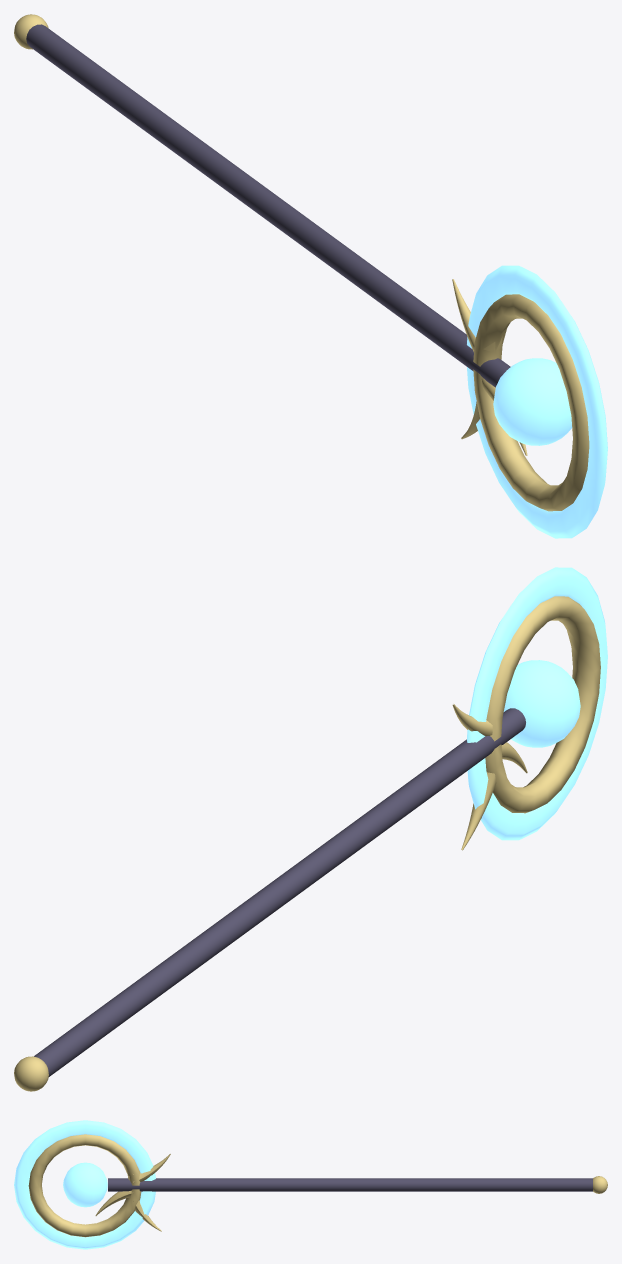
The model's file is cajado_dw.glb.
3 renders of one model, top to bottom at view 1: azimuth 30°, elevation 25°; view 2: azimuth 150°, elevation 25°; view 3: azimuth 270°, elevation 25°, orthographic. The views are drawn at different scales.
Visible parts, largest first — view 1: Cajado_DW; view 2: Cajado_DW; view 3: Cajado_DW.
Part boxes in pixels (x1=…): Cajado_DW: x1=14, y1=14, x2=607, y2=538; Cajado_DW: x1=14, y1=567, x2=607, y2=1091; Cajado_DW: x1=14, y1=1120, x2=607, y2=1249.
Bounding box in the file's own units: 0.15 × 0.4788 × 1.99.
